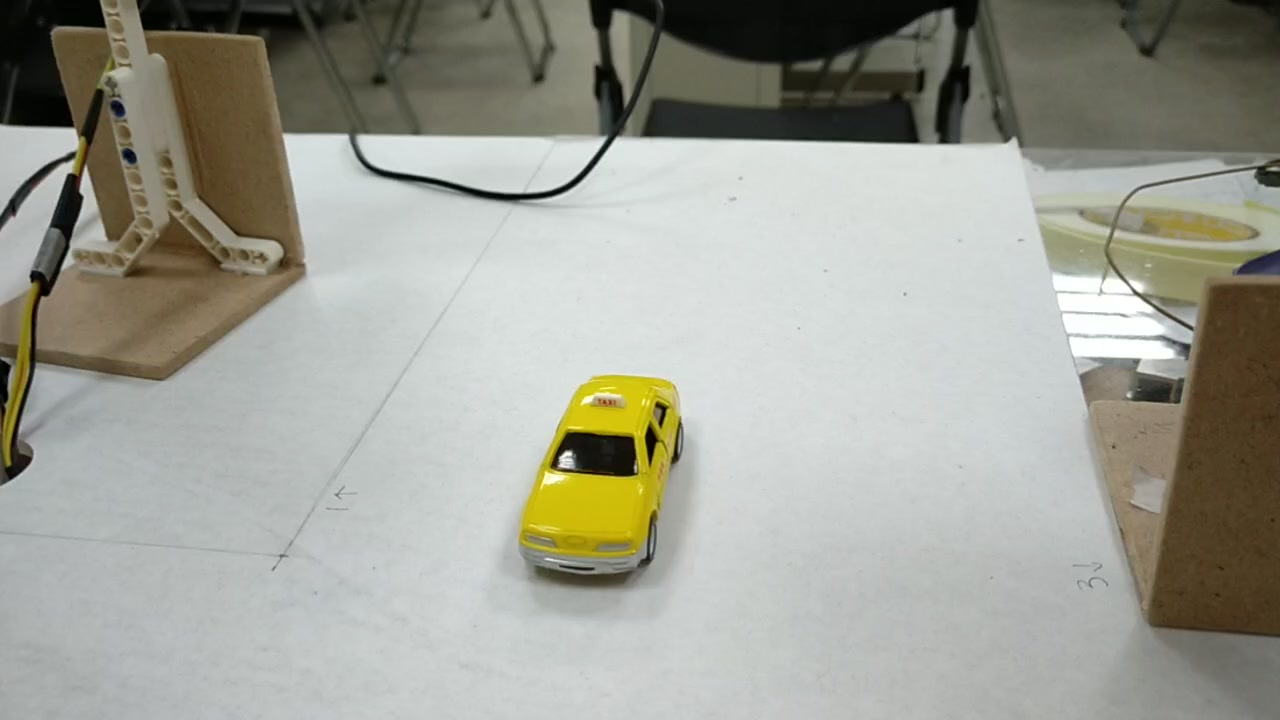car: (518, 372, 684, 579)
